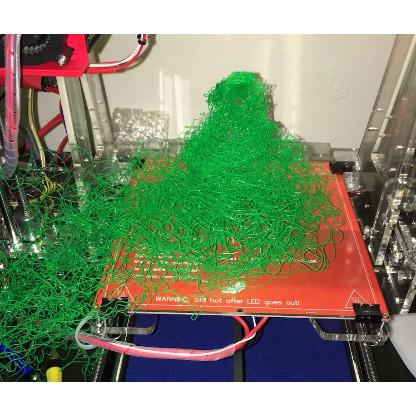fail: (2, 123, 312, 354)
